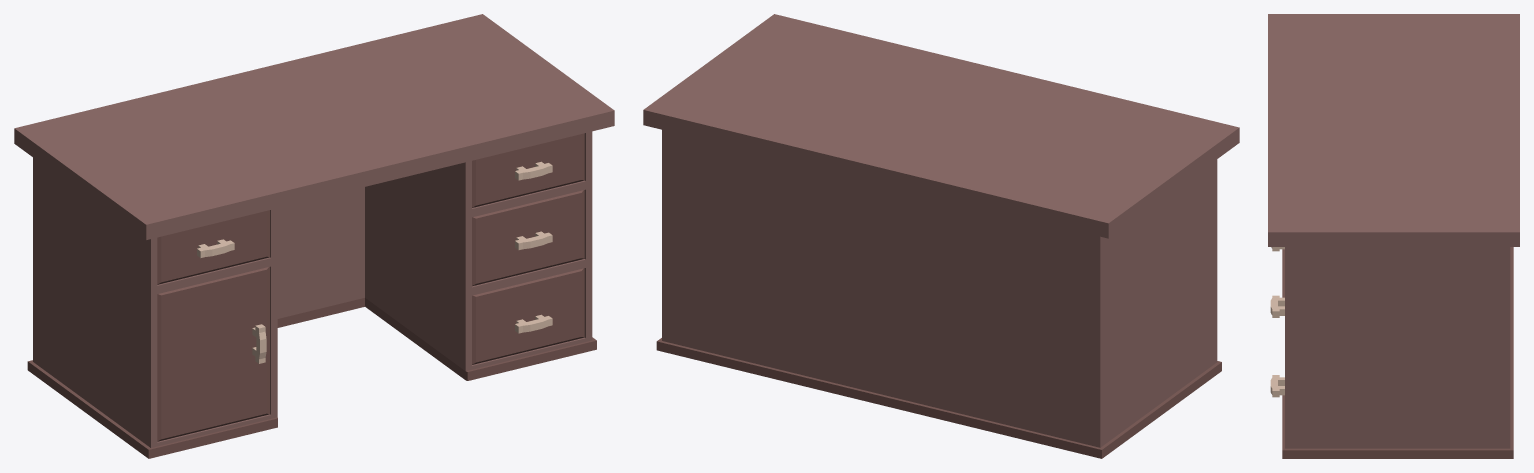
File: OfficeTable.fbx
3 renders of one model, left to right at view 1: azimuth 30°, elevation 25°; view 2: azimuth 150°, elevation 25°; view 3: azimuth 270°, elevation 25°, orthographic. The views are drawn at different scales.
Visible parts, largest first — view 1: OfficeTable_02; view 2: OfficeTable_02; view 3: OfficeTable_02.
Part boxes in pixels (bbox=[...]): OfficeTable_02: bbox=[14, 14, 614, 458]; OfficeTable_02: bbox=[643, 14, 1239, 458]; OfficeTable_02: bbox=[1268, 14, 1519, 458].
Bounding box in the file's own units: 290 × 143 × 141.
